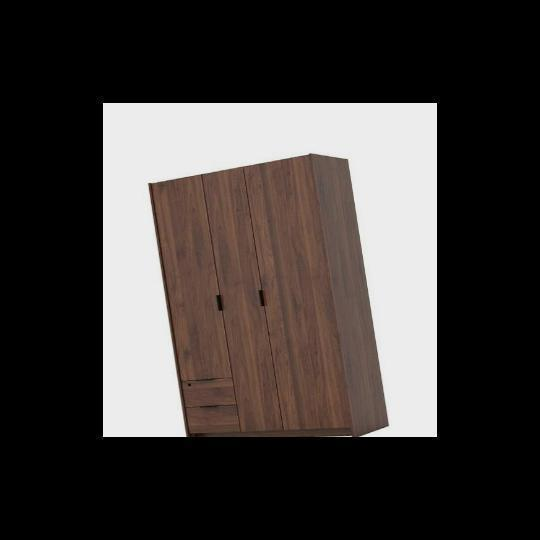Armario: (145, 150, 391, 433)
